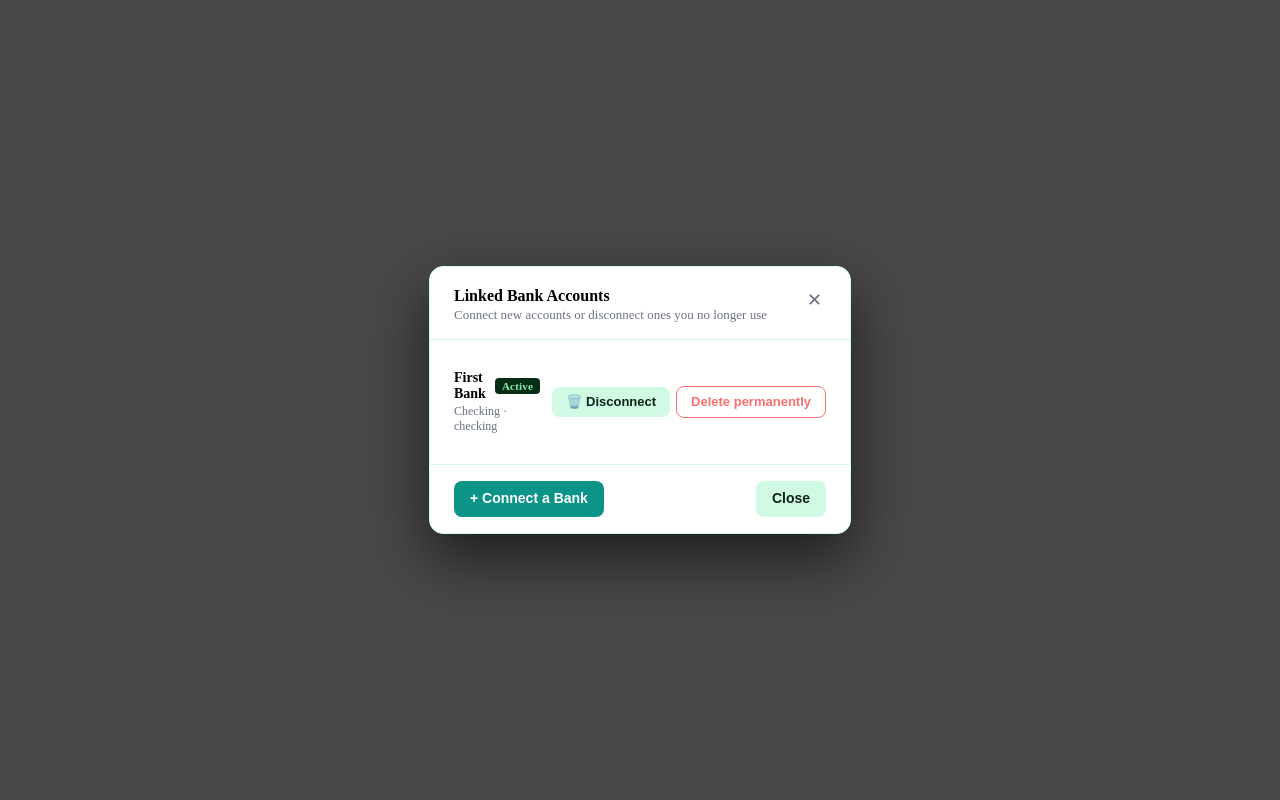
Scenario: shows success banner and refreshes accounts after enrollment
Step 1. Click the button "+ Connect a Bank" → click(529, 499), box [454, 481, 604, 517]
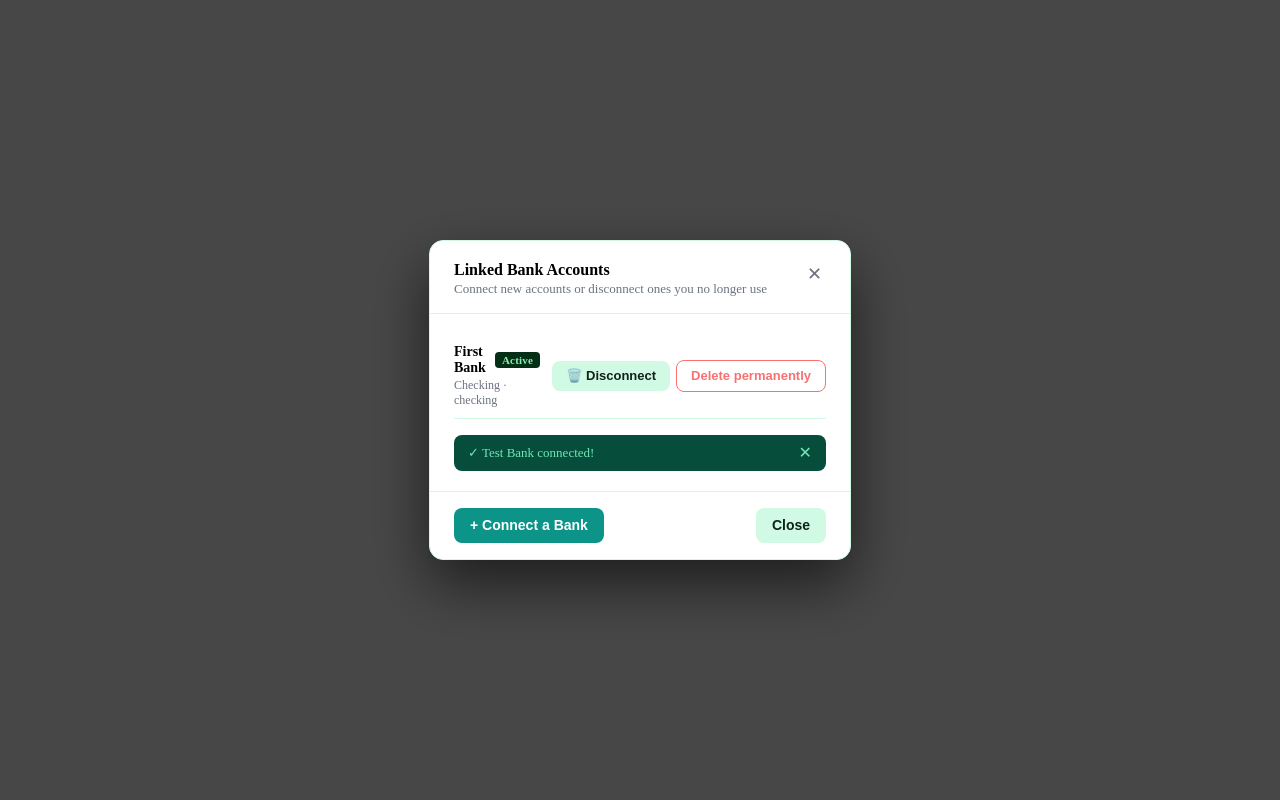
Check: the text "✓ Test Bank connected!" is shown, box [468, 445, 594, 461]
